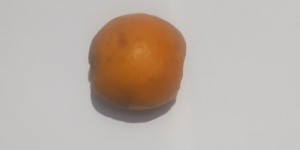BAD: (87, 12, 185, 111)
